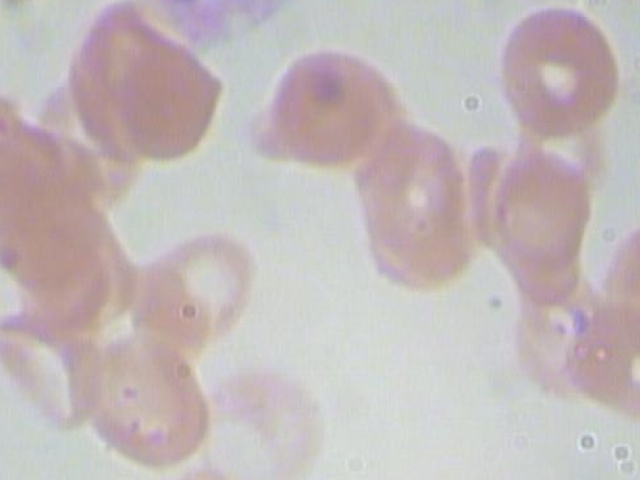RBC: (69, 319, 224, 480), (358, 111, 479, 300), (263, 29, 399, 185), (492, 0, 627, 152), (109, 33, 235, 181), (129, 208, 254, 357), (476, 136, 601, 284), (196, 349, 335, 480), (0, 137, 114, 293), (0, 307, 101, 444), (557, 286, 640, 445), (607, 187, 640, 334), (0, 0, 97, 8), (0, 211, 2, 395)
WBC: (129, 0, 340, 49)
